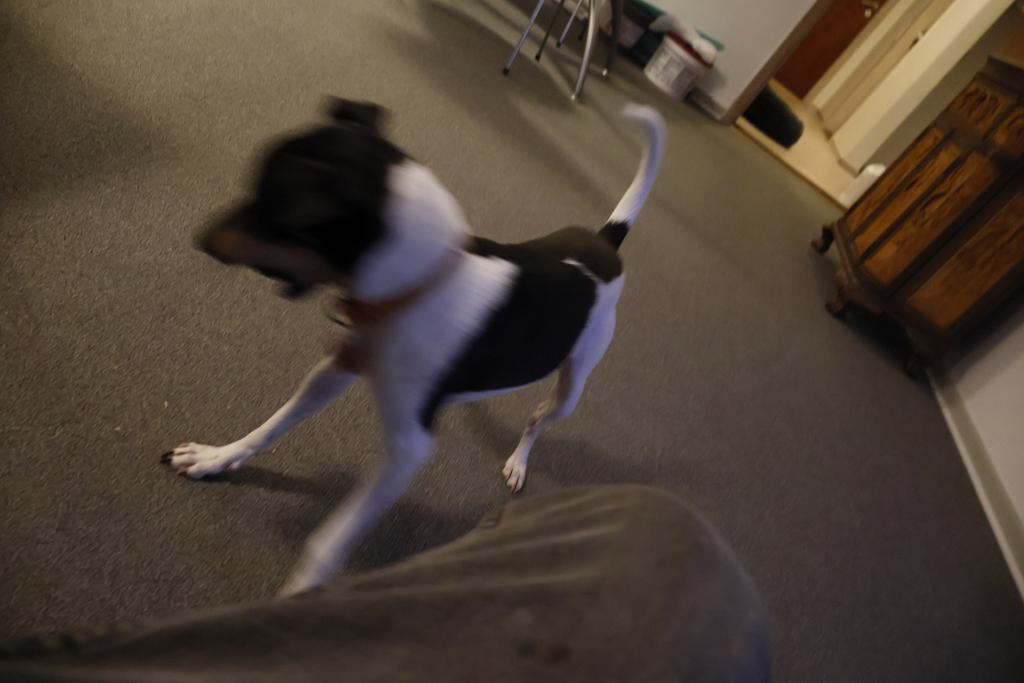Dog: (159, 78, 675, 643)
Humanoid: (0, 451, 796, 683)
